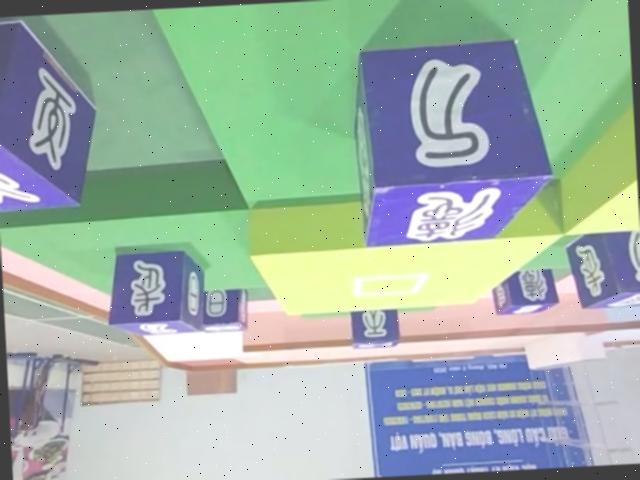R2 Fake Blue: (349, 36, 555, 247), (0, 13, 100, 215), (103, 243, 209, 340), (562, 227, 640, 312), (492, 269, 558, 318), (347, 309, 402, 352), (200, 289, 250, 336)
